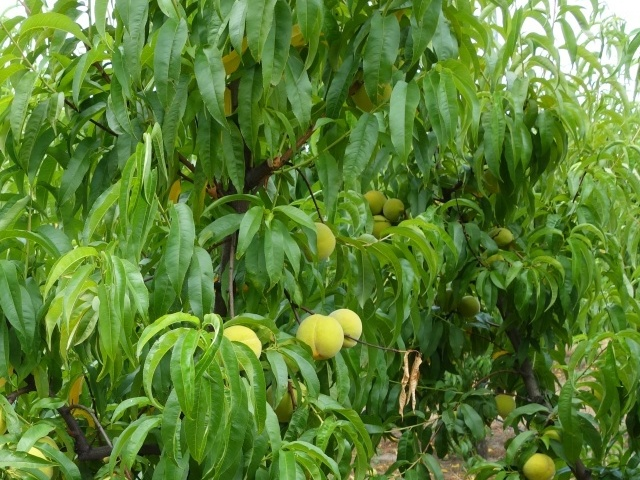peach: (291, 311, 347, 362), (261, 373, 312, 422), (220, 319, 264, 371), (297, 217, 342, 263), (326, 305, 369, 351), (351, 82, 395, 118), (520, 450, 559, 480), (357, 186, 390, 216), (488, 389, 518, 422), (367, 211, 395, 240), (455, 291, 484, 319), (379, 195, 409, 222), (487, 224, 518, 250)
